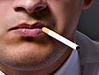smoke: (41, 26, 81, 51)
